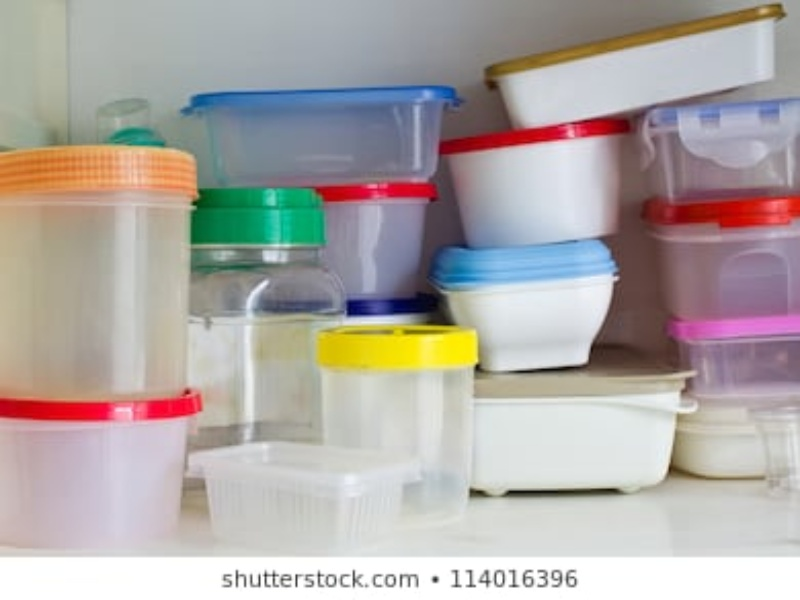plastic-container: (1, 137, 204, 401), (175, 171, 341, 430), (461, 4, 798, 123), (306, 315, 494, 520), (451, 349, 697, 497), (1, 387, 202, 553), (425, 222, 627, 375), (182, 78, 463, 180), (438, 119, 645, 247), (190, 441, 436, 547), (644, 168, 800, 322), (616, 90, 800, 192), (310, 174, 441, 300), (661, 310, 800, 397)
